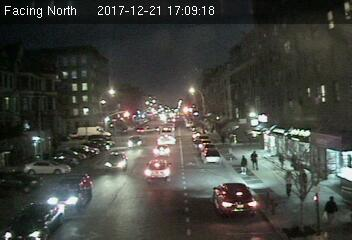car: (47, 173, 92, 213), (212, 181, 257, 217), (144, 159, 173, 181), (104, 152, 128, 171), (202, 147, 220, 164), (126, 136, 145, 149), (152, 145, 171, 157)
pedestrian: (283, 169, 296, 199), (250, 150, 260, 170), (239, 153, 247, 175)
